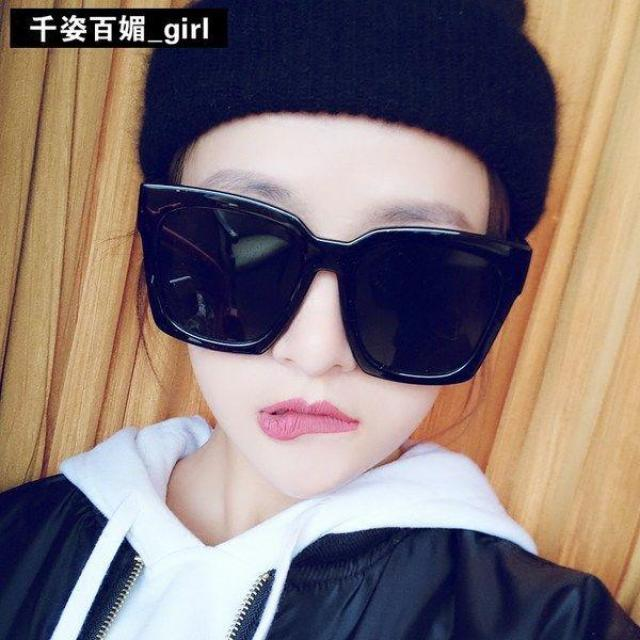hat: (137, 3, 560, 238)
